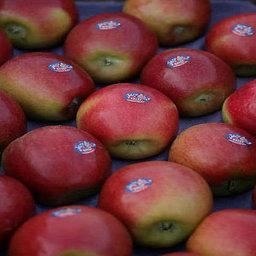apple: (97, 163, 216, 248), (4, 126, 111, 203), (74, 86, 180, 162), (137, 48, 236, 117), (67, 11, 159, 85), (1, 53, 92, 123), (7, 206, 133, 256), (168, 123, 255, 193), (122, 1, 210, 48), (1, 1, 78, 51), (202, 11, 256, 75), (182, 208, 255, 254), (1, 173, 33, 242), (221, 78, 255, 134), (1, 89, 25, 146)
